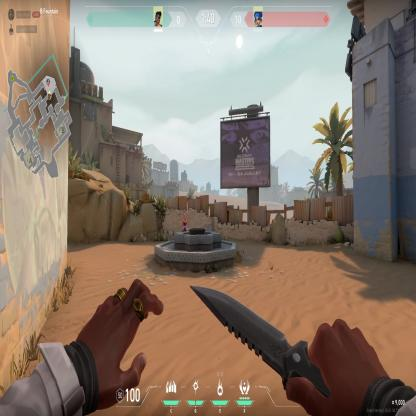enemy: (181, 211, 188, 231)
